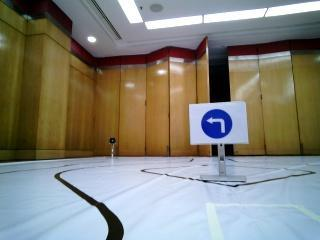left: (194, 104, 243, 142)
